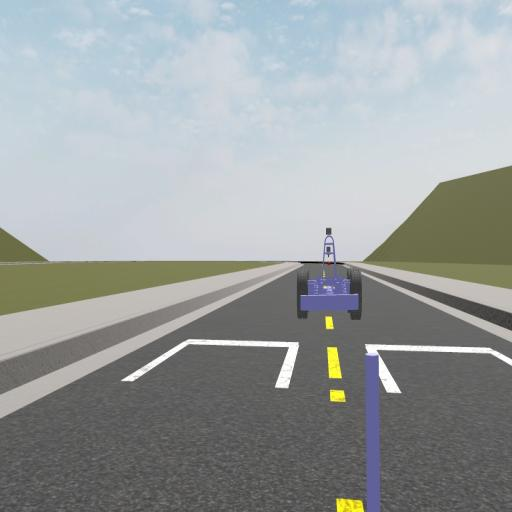ERP-42: (297, 226, 361, 319)
